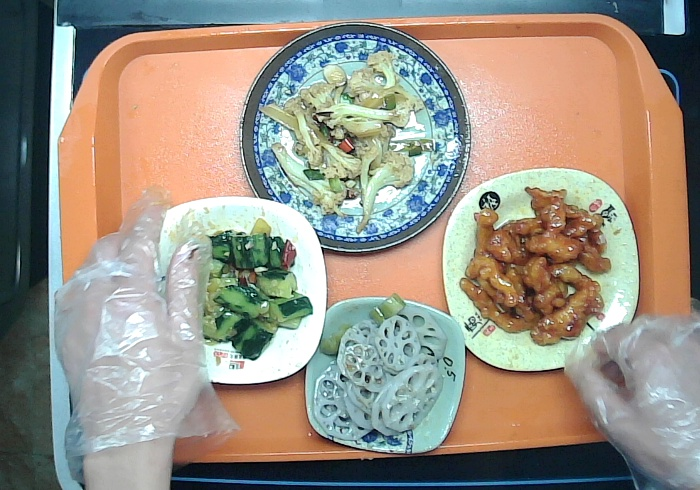NLDX-Bai_Se_Xiao_Fang_Die: (144, 192, 330, 387)
NLDX-Fu_Zi_Fang_Die: (437, 164, 644, 376)
NLDX-Qing_Hua_Xiao_Fang_Die: (301, 295, 468, 458)
NLDX-Qing_Hua_Yuan_Die: (233, 19, 474, 259)
